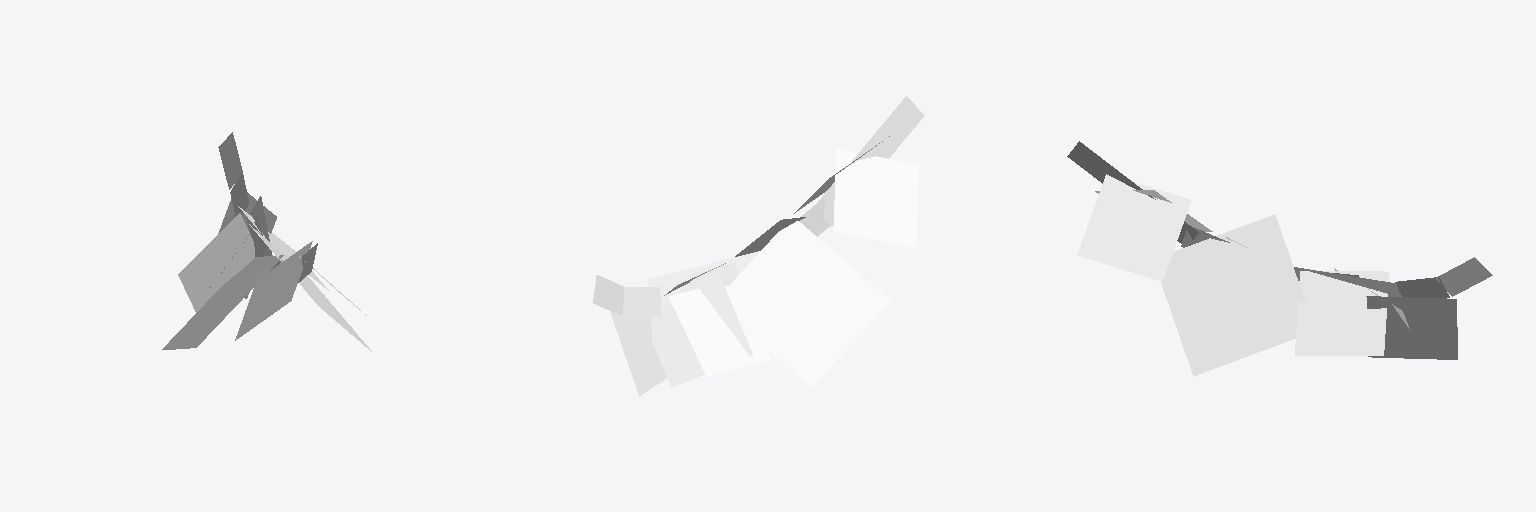
Rendered from spruce_long_branch_1.obj.
3 views of the same model, side by side, from view 1: azimuth 30°, elevation 25°; view 2: azimuth 150°, elevation 25°; view 3: azimuth 270°, elevation 25° (orthographic).
Parts seen in each view (by area): view 1: cube.008, cube.005, cube.010, cube.009, cube.002, cube.007; view 2: cube.005, cube.010, cube.008, cube.004, cube.007, cube.011, cube, cube.001, cube.002, cube.000, cube.009, cube.003; view 3: cube.009, cube.012, cube.006, cube.007, cube.011, cube.002, cube.001, cube.
Part boxes in pixels (bbox=[...]): cube.008: bbox=[178, 213, 254, 312]; cube.005: bbox=[162, 255, 283, 349]; cube.010: bbox=[235, 241, 312, 340]; cube.009: bbox=[249, 224, 371, 351]; cube.002: bbox=[218, 132, 242, 189]; cube.007: bbox=[218, 192, 276, 298]; cube.005: bbox=[730, 216, 890, 387]; cube.010: bbox=[834, 149, 918, 247]; cube.008: bbox=[669, 286, 770, 376]; cube.004: bbox=[651, 272, 752, 387]; cube.007: bbox=[611, 312, 666, 395]; cube.011: bbox=[817, 96, 924, 226]; cube: bbox=[647, 251, 759, 306]; cube.001: bbox=[623, 287, 660, 316]; cube.002: bbox=[593, 275, 623, 315]; cube.000: bbox=[799, 198, 830, 236]; cube.009: bbox=[735, 217, 805, 256]; cube.003: bbox=[689, 263, 737, 289]; cube.009: bbox=[1161, 214, 1305, 376]; cube.012: bbox=[1077, 174, 1191, 281]; cube.006: bbox=[1295, 271, 1389, 355]; cube.007: bbox=[1366, 296, 1457, 359]; cube.011: bbox=[1067, 141, 1198, 243]; cube.002: bbox=[1435, 257, 1492, 296]; cube.001: bbox=[1395, 277, 1449, 298]; cube: bbox=[1294, 267, 1400, 296].
Bounding box in the file's own units: 1.32 × 1.32 × 2.65.